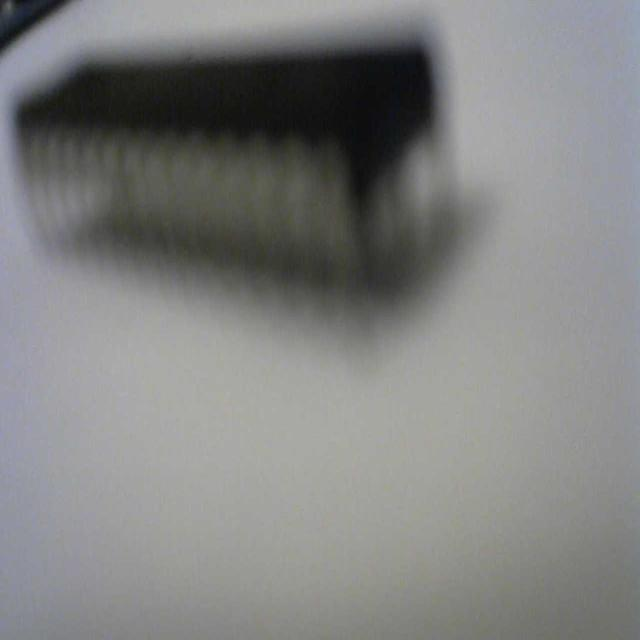atmega: (7, 6, 465, 306)
